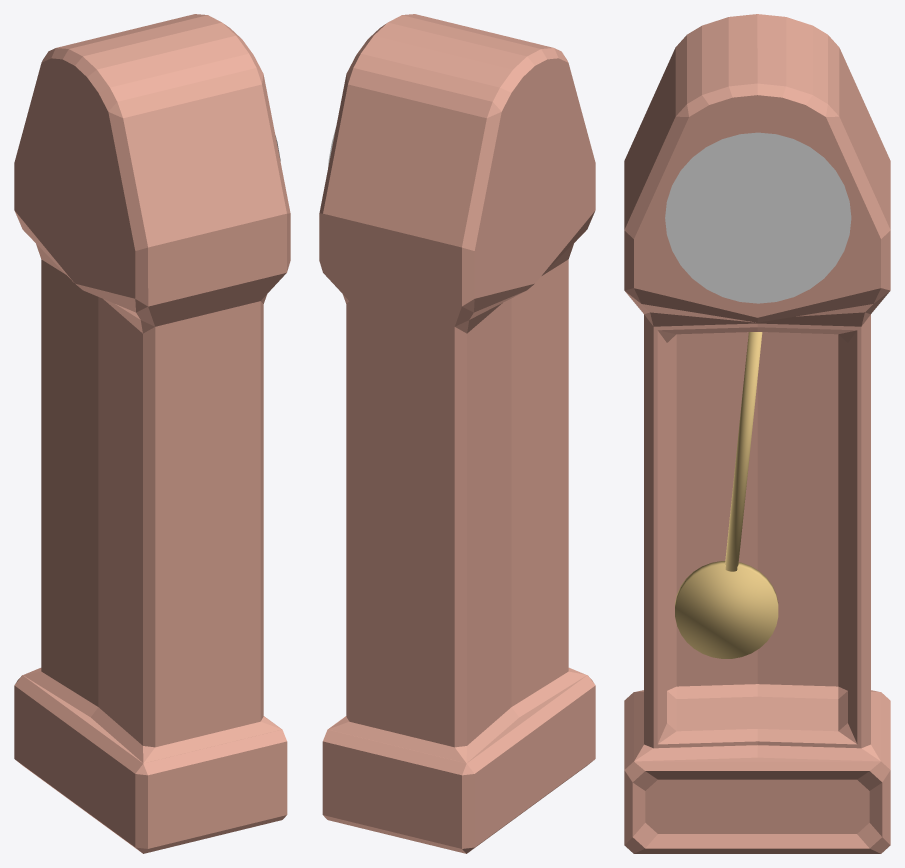
File: Clock.fbx
The picture shows the model from 3 angles, left to right: view 1: azimuth 30°, elevation 25°; view 2: azimuth 150°, elevation 25°; view 3: azimuth 270°, elevation 25°; orthographic projection. The views are drawn at different scales.
Parts seen in each view (by area): view 1: GrandFatherClock; view 2: GrandFatherClock; view 3: GrandFatherClock.
Part boxes in pixels (x1,y1,x2,y2): GrandFatherClock: (14, 14, 290, 853); GrandFatherClock: (319, 14, 595, 853); GrandFatherClock: (624, 14, 890, 853).
Bounding box in the file's own units: 59.1 × 259 × 81.19.
